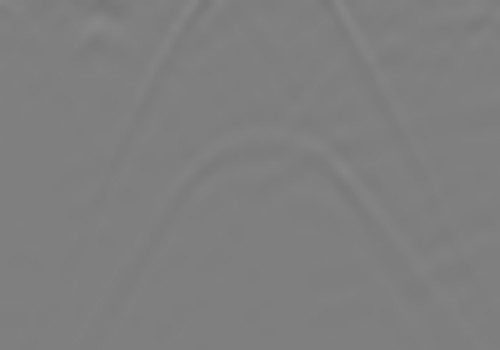hyperbola: (143, 116, 385, 267)
